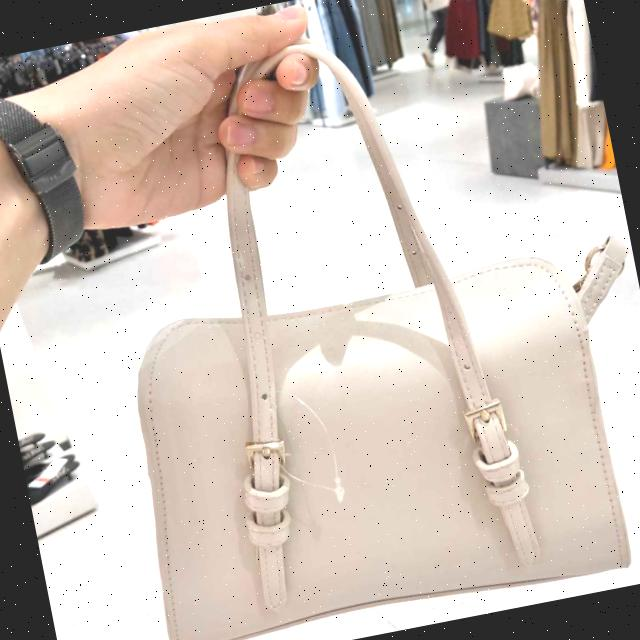handbag: (101, 191, 640, 640)
